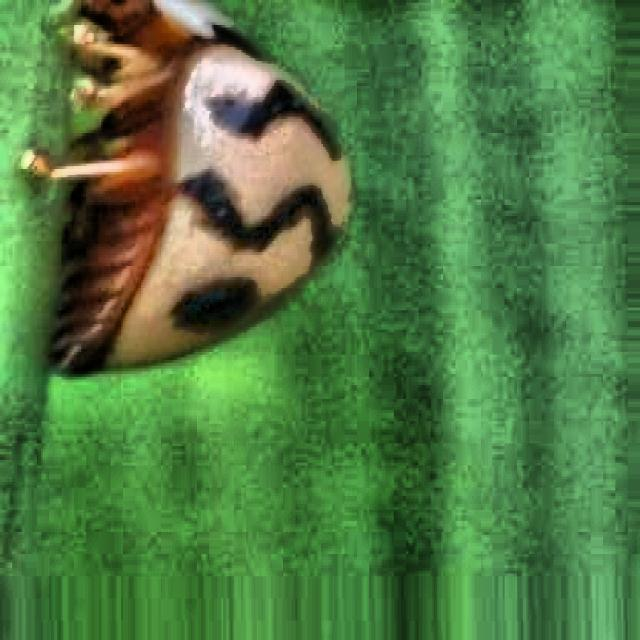Asian-Lady-beetle: (20, 3, 401, 432)
